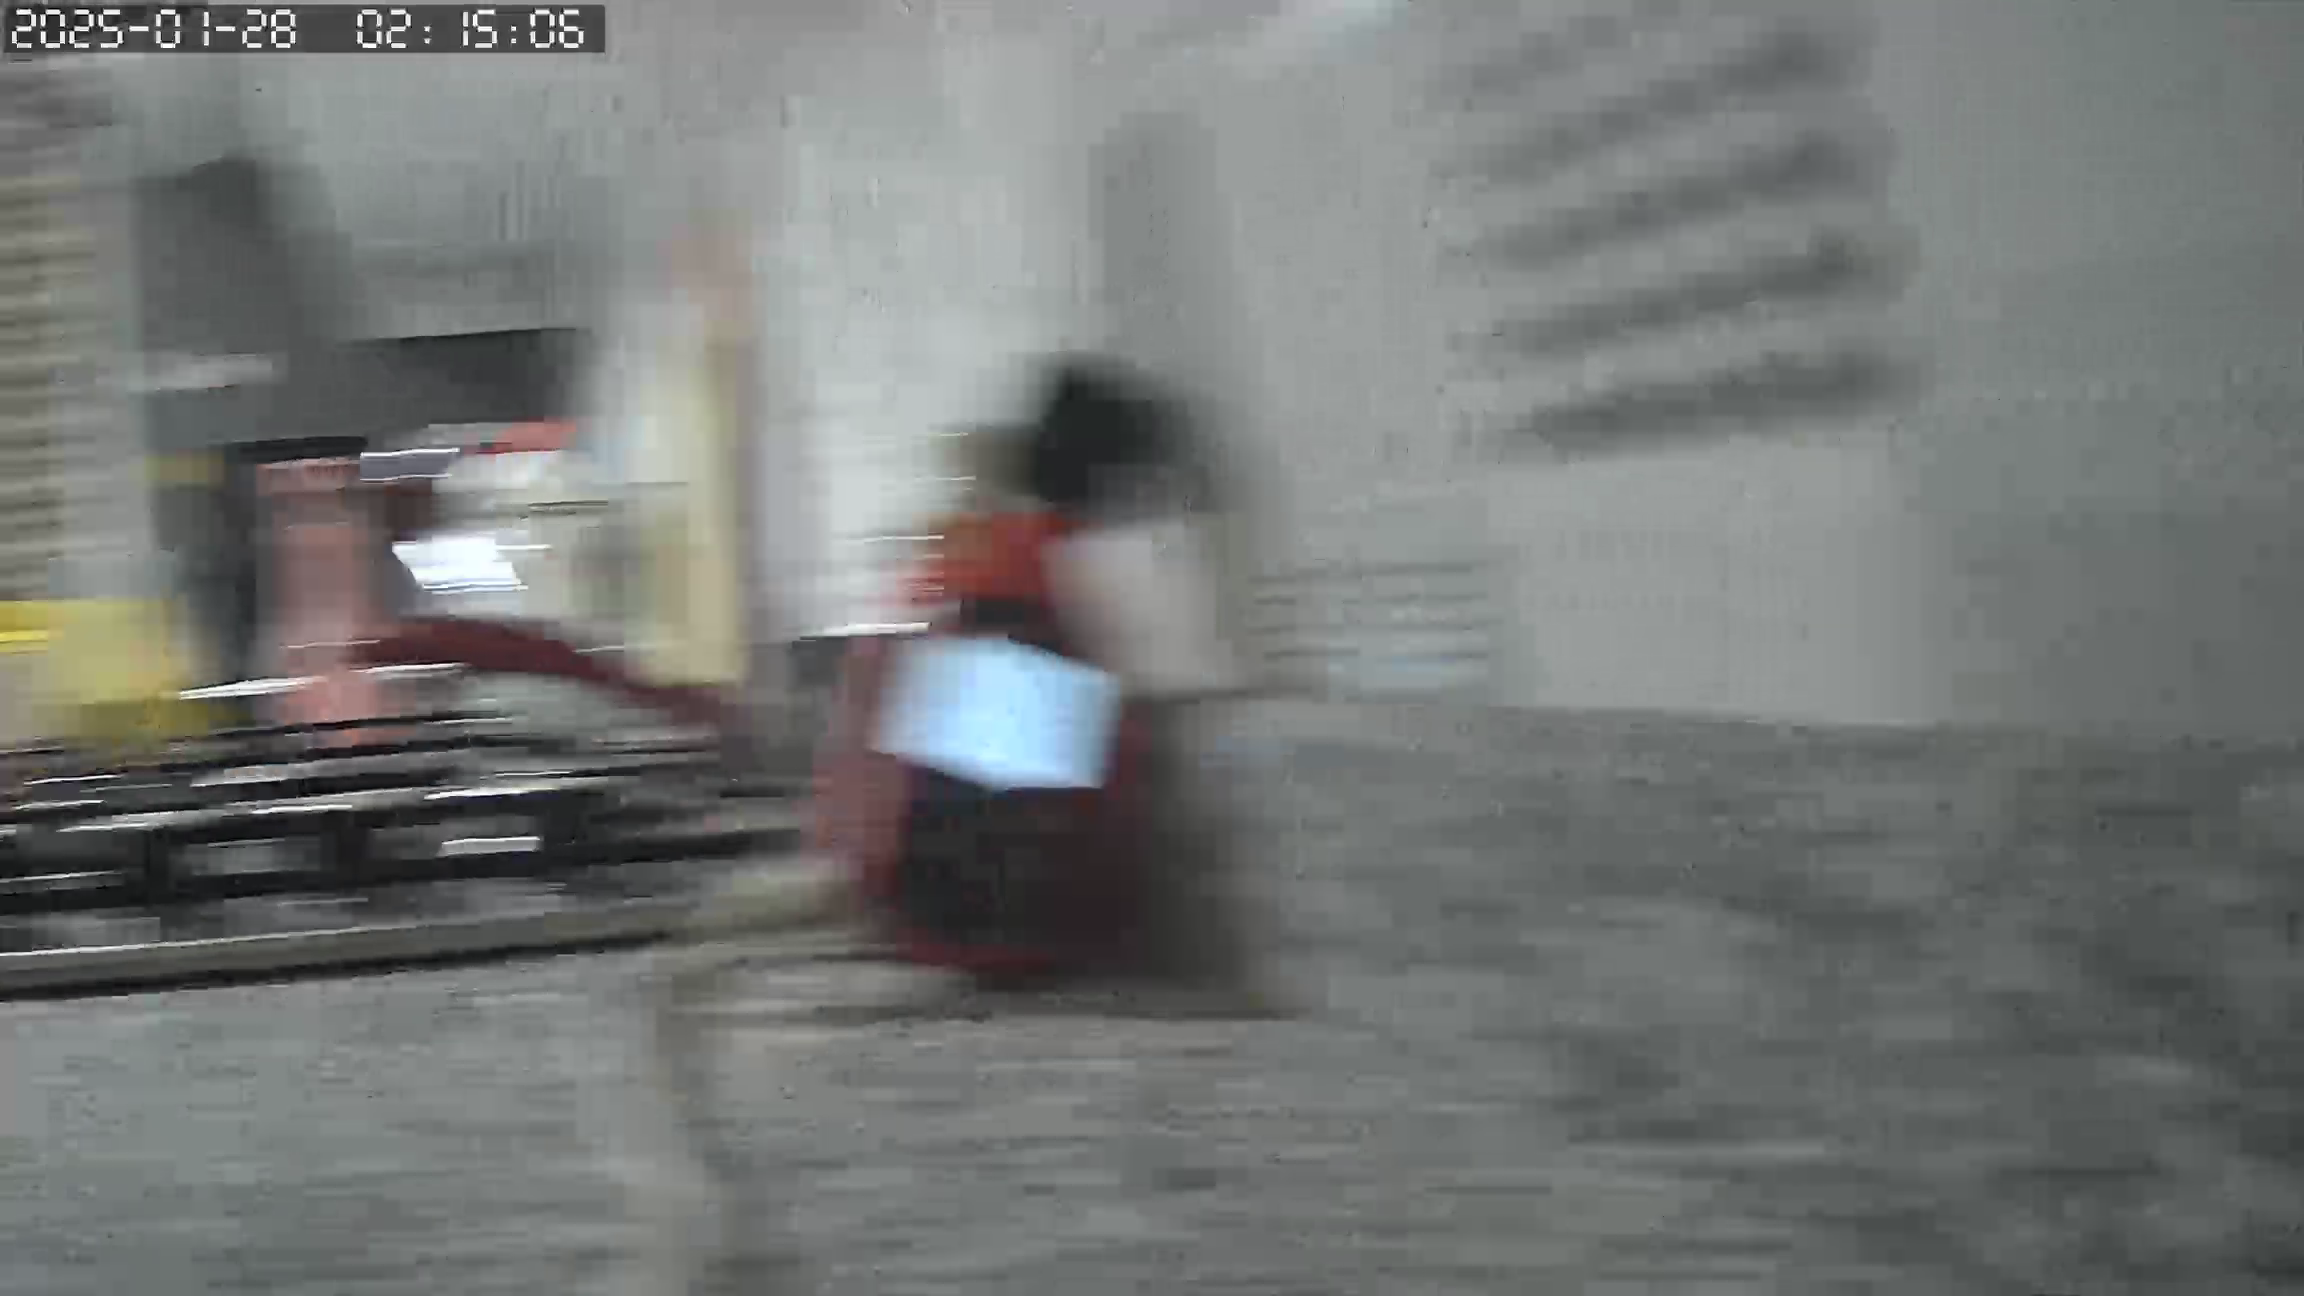screen: (904, 628, 1114, 796)
